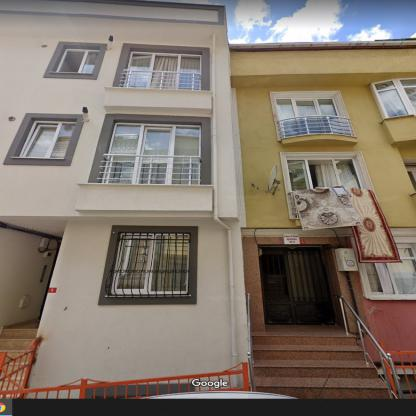door: (262, 248, 337, 328)
window: (103, 122, 201, 182), (115, 233, 186, 290), (124, 51, 200, 87), (282, 157, 357, 188), (368, 245, 416, 290), (19, 120, 75, 158), (372, 79, 414, 118), (276, 98, 338, 118), (56, 48, 100, 74)
